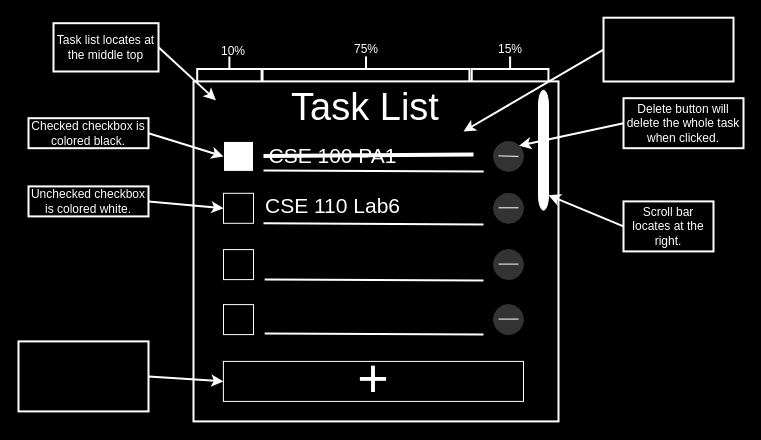
This 761x440 diagram has some shape labels left out. Each missing label, with the centre of its shape:
"Add button will create a new task with a checkbox and a delete button attached." goes at point (83, 376).
"Task entry can be filled with task and labeled with strikethrough when checked." goes at point (668, 49).
